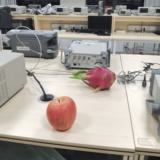apple: (46, 96, 77, 132)
pitaya: (78, 65, 117, 90)
